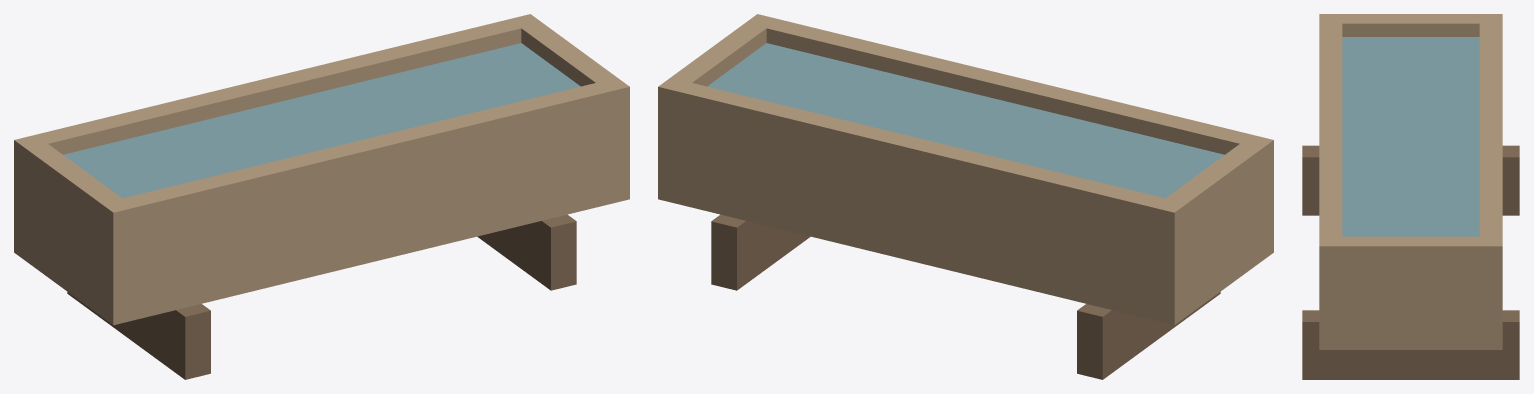
File: water_trough.glb
3 views of the same model, side by side, from view 1: azimuth 30°, elevation 25°; view 2: azimuth 150°, elevation 25°; view 3: azimuth 270°, elevation 25° (orthographic). The views are drawn at different scales.
Visible parts, largest first — view 1: WaterTrough; view 2: WaterTrough; view 3: WaterTrough.
Boxes of the visible parts, box(x1,y1,x2,y2) form: WaterTrough: box(14, 14, 629, 379); WaterTrough: box(658, 14, 1273, 379); WaterTrough: box(1302, 14, 1519, 379).
Size of the model in its own units: 2.4 by 0.78 by 0.95.
